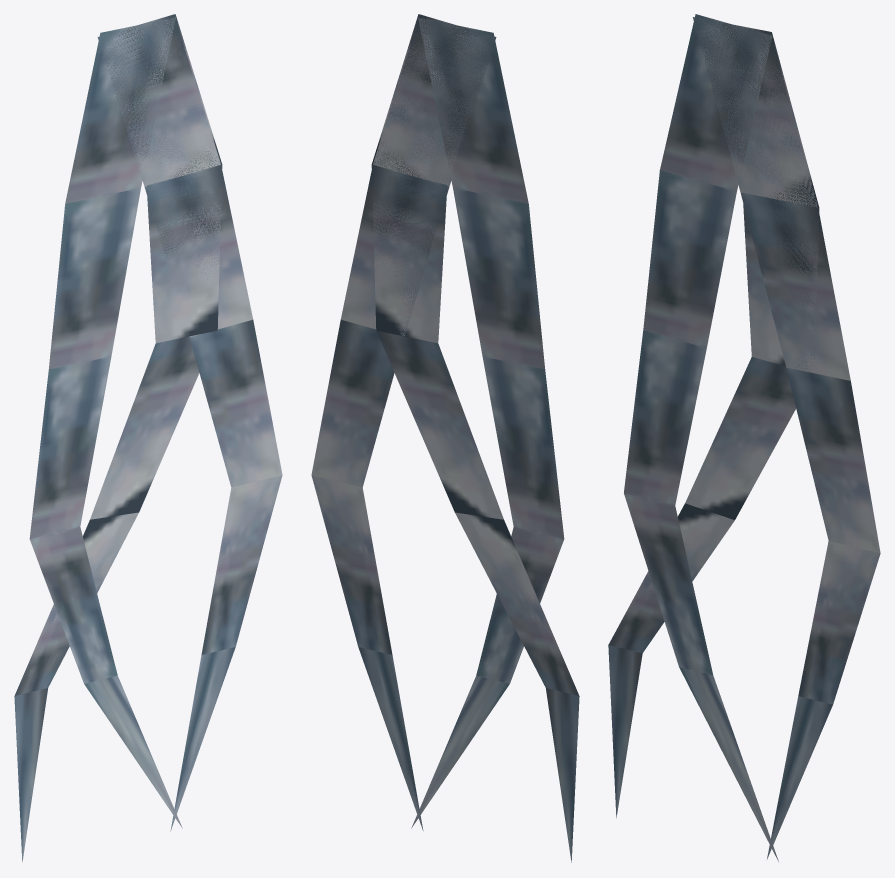
Rendered from manowar_tenacleb_idle.glb.
The picture shows the model from 3 angles, left to right: view 1: azimuth 30°, elevation 25°; view 2: azimuth 150°, elevation 25°; view 3: azimuth 330°, elevation 25°; orthographic projection.
Visible parts, largest first — view 1: MeshRoot; view 2: MeshRoot; view 3: MeshRoot.
Boxes of the visible parts, x1,y1,x2,y2 form: MeshRoot: (14,14,282,862); MeshRoot: (311,14,579,862); MeshRoot: (608,14,880,861).
Bounding box in the file's own units: 0.9297 × 2.71 × 6.1e-05.
1 material, 1 textured.
